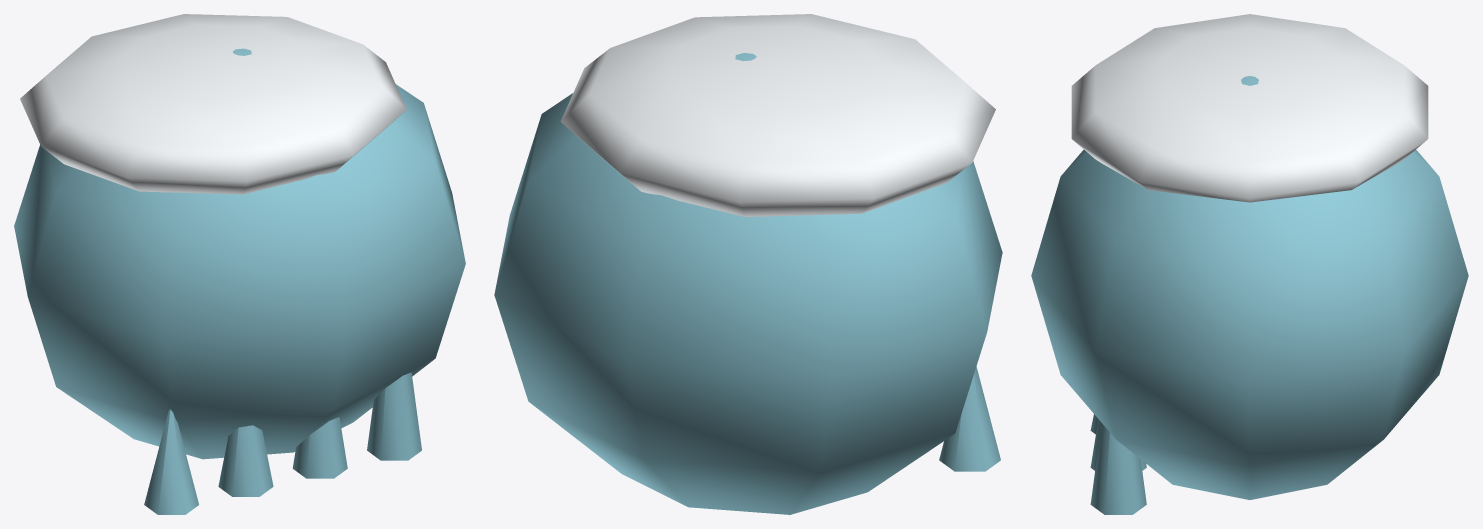
The model's file is glacial-rock.glb.
The picture shows the model from 3 angles, left to right: view 1: azimuth 30°, elevation 25°; view 2: azimuth 150°, elevation 25°; view 3: azimuth 270°, elevation 25°; orthographic projection. The views are drawn at different scales.
Visible parts, largest first — view 1: glacial-blue-rock-ice, glacial-blue-rock-snow; view 2: glacial-blue-rock-ice, glacial-blue-rock-snow; view 3: glacial-blue-rock-ice, glacial-blue-rock-snow.
Boxes of the visible parts, x1,y1,x2,y2 form: glacial-blue-rock-ice: [14, 48, 465, 514]; glacial-blue-rock-snow: [20, 14, 406, 194]; glacial-blue-rock-ice: [494, 53, 1002, 514]; glacial-blue-rock-snow: [560, 14, 995, 216]; glacial-blue-rock-ice: [1031, 76, 1468, 514]; glacial-blue-rock-snow: [1071, 14, 1428, 202].
Size of the model in its own units: 1.6 by 1.4 by 1.4.
